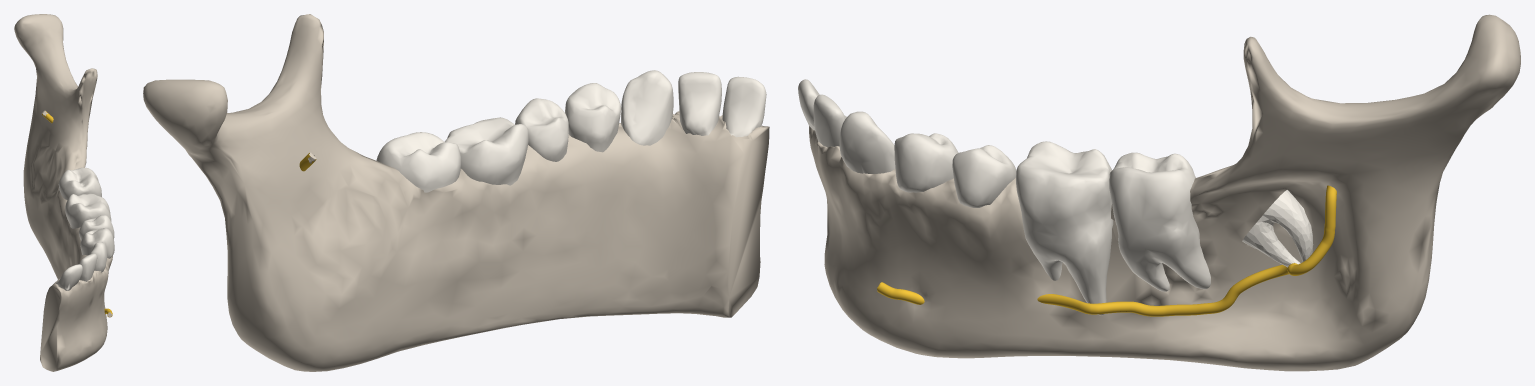
The model's file is coronectomy-later.glb.
3 renders of one model, left to right at view 1: azimuth 30°, elevation 25°; view 2: azimuth 150°, elevation 25°; view 3: azimuth 270°, elevation 25°, orthographic. The views are drawn at different scales.
Visible parts, largest first — view 1: mandible left, teeth_2, nerve_2; view 2: mandible left, teeth_2; view 3: mandible left, teeth_2, nerve_2, wisdom tooth roots.
Part boxes in pixels (bbox=[...]): mandible left: bbox=[14, 14, 112, 371]; teeth_2: bbox=[55, 167, 114, 290]; nerve_2: bbox=[42, 111, 112, 316]; mandible left: bbox=[143, 14, 769, 371]; teeth_2: bbox=[376, 70, 766, 192]; mandible left: bbox=[809, 14, 1520, 371]; teeth_2: bbox=[798, 79, 1210, 315]; nerve_2: bbox=[877, 185, 1336, 316]; wisdom tooth roots: bbox=[1242, 190, 1313, 267].
Size of the model in its own units: 0.0913 by 0.1057 by 0.1665.
